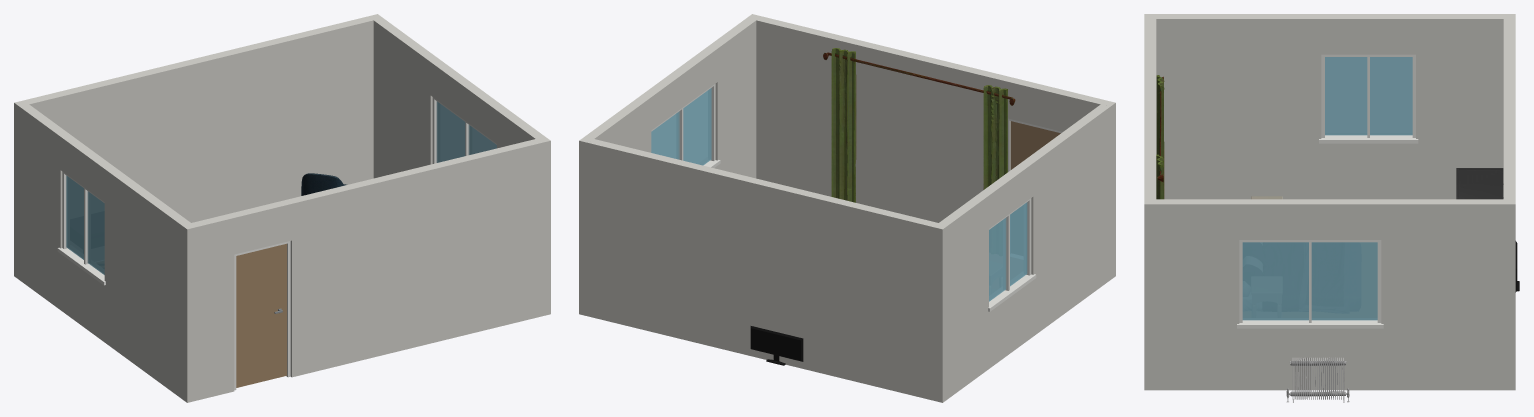
Rendered from layoutgpt.glb.
3 renders of one model, left to right at view 1: azimuth 30°, elevation 25°; view 2: azimuth 150°, elevation 25°; view 3: azimuth 270°, elevation 25°, orthographic. The views are drawn at different scales.
Visible parts, largest first — view 1: wall|scenesmith_022__R00|0, wall|scenesmith_022__R00|1, wall|scenesmith_022__R00|2, wall|scenesmith_022__R00|3, wall|scenesmith_022__R00|0 Door 0 | wood leaf, wall|scenesmith_022__R00|2 Window 0 | glazing, wall|scenesmith_022__R00|3 Window 0 | glazing, wall|scenesmith_022__R00|2 Window 0 | jamb, wall|scenesmith_022__R00|0 Door 0 | jamb, raw_model.003, wall|scenesmith_022__R00|3 Window 0 | jamb; view 2: wall|scenesmith_022__R00|1, wall|scenesmith_022__R00|0, wall|scenesmith_022__R00|2, wall|scenesmith_022__R00|3, scenesmith_022__R00_7, wall|scenesmith_022__R00|3 Window 0 | glazing, wall|scenesmith_022__R00|2 Window 0 | glazing, scenesmith_022__R00_5, wall|scenesmith_022__R00|2 Window 0 | jamb, wall|scenesmith_022__R00|0 Door 0 | wood leaf, wall|scenesmith_022__R00|3 Window 0 | jamb; view 3: wall|scenesmith_022__R00|2, wall|scenesmith_022__R00|3, wall|scenesmith_022__R00|3 Window 0 | glazing, wall|scenesmith_022__R00|2 Window 0 | glazing, wall|scenesmith_022__R00|0, wall|scenesmith_022__R00|1, wall|scenesmith_022__R00|3 Window 0 | jamb, wall|scenesmith_022__R00|2 Window 0 | jamb, scenesmith_022__R00_8, raw_model.004, scenesmith_022__R00_7.
Part boxes in pixels (x1=…): wall|scenesmith_022__R00|0: x1=181, y1=136, x2=550, y2=402; wall|scenesmith_022__R00|1: x1=14, y1=16, x2=373, y2=279; wall|scenesmith_022__R00|2: x1=19, y1=104, x2=190, y2=398; wall|scenesmith_022__R00|3: x1=368, y1=14, x2=550, y2=316; wall|scenesmith_022__R00|0 Door 0 | wood leaf: x1=236, y1=243, x2=286, y2=387; wall|scenesmith_022__R00|2 Window 0 | glazing: x1=66, y1=175, x2=104, y2=274; wall|scenesmith_022__R00|3 Window 0 | glazing: x1=436, y1=101, x2=496, y2=162; wall|scenesmith_022__R00|2 Window 0 | jamb: x1=57, y1=171, x2=105, y2=285; wall|scenesmith_022__R00|0 Door 0 | jamb: x1=234, y1=241, x2=290, y2=390; raw_model.003: x1=301, y1=173, x2=346, y2=195; wall|scenesmith_022__R00|3 Window 0 | jamb: x1=432, y1=97, x2=496, y2=163; wall|scenesmith_022__R00|1: x1=579, y1=139, x2=948, y2=402; wall|scenesmith_022__R00|0: x1=747, y1=14, x2=1115, y2=279; wall|scenesmith_022__R00|2: x1=939, y1=104, x2=1110, y2=398; wall|scenesmith_022__R00|3: x1=579, y1=18, x2=756, y2=178; scenesmith_022__R00_7: x1=823, y1=48, x2=1015, y2=202; wall|scenesmith_022__R00|3 Window 0 | glazing: x1=651, y1=88, x2=711, y2=165; wall|scenesmith_022__R00|2 Window 0 | glazing: x1=989, y1=202, x2=1027, y2=301; scenesmith_022__R00_5: x1=750, y1=326, x2=803, y2=365; wall|scenesmith_022__R00|2 Window 0 | jamb: x1=988, y1=198, x2=1036, y2=311; wall|scenesmith_022__R00|0 Door 0 | wood leaf: x1=1010, y1=121, x2=1060, y2=169; wall|scenesmith_022__R00|3 Window 0 | jamb: x1=651, y1=84, x2=720, y2=167; wall|scenesmith_022__R00|2: x1=1156, y1=14, x2=1515, y2=199; wall|scenesmith_022__R00|3: x1=1156, y1=199, x2=1515, y2=390; wall|scenesmith_022__R00|3 Window 0 | glazing: x1=1242, y1=242, x2=1377, y2=320; wall|scenesmith_022__R00|2 Window 0 | glazing: x1=1325, y1=57, x2=1412, y2=135; wall|scenesmith_022__R00|0: x1=1144, y1=14, x2=1156, y2=390; wall|scenesmith_022__R00|1: x1=1503, y1=14, x2=1515, y2=390; wall|scenesmith_022__R00|3 Window 0 | jamb: x1=1237, y1=240, x2=1383, y2=328; wall|scenesmith_022__R00|2 Window 0 | jamb: x1=1319, y1=54, x2=1418, y2=143; scenesmith_022__R00_8: x1=1286, y1=357, x2=1349, y2=402; raw_model.004: x1=1456, y1=168, x2=1503, y2=199; scenesmith_022__R00_7: x1=1156, y1=75, x2=1164, y2=199.
Size of the model in its own units: 6.13 by 2.61 by 4.75.
14 materials, 7 textured.
